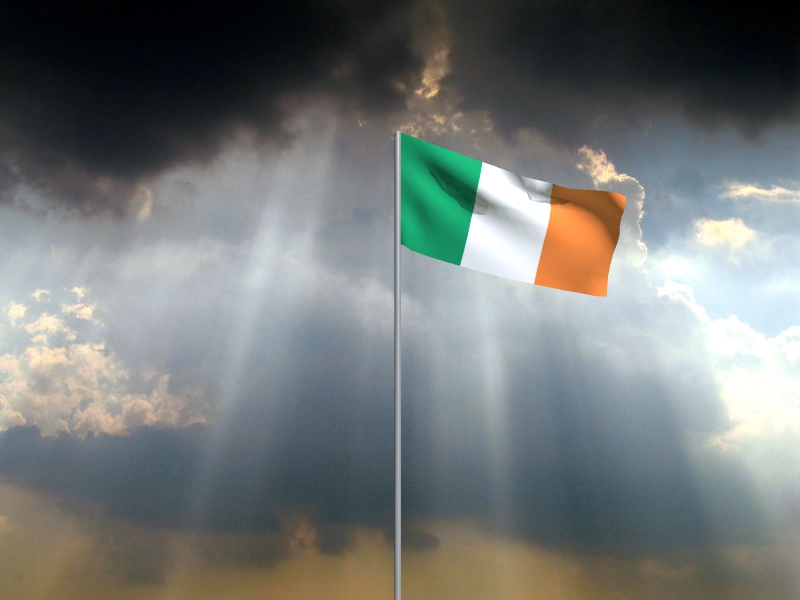ie: (402, 133, 627, 299)
